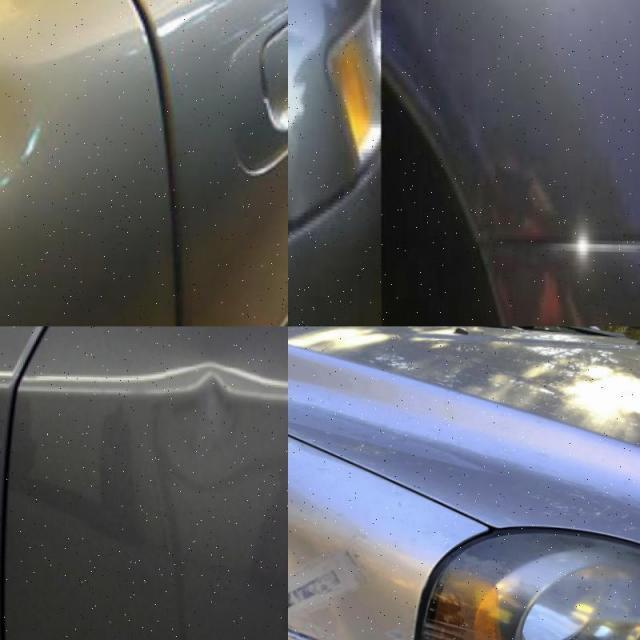car damage: (152, 375, 281, 487), (284, 538, 365, 621)
